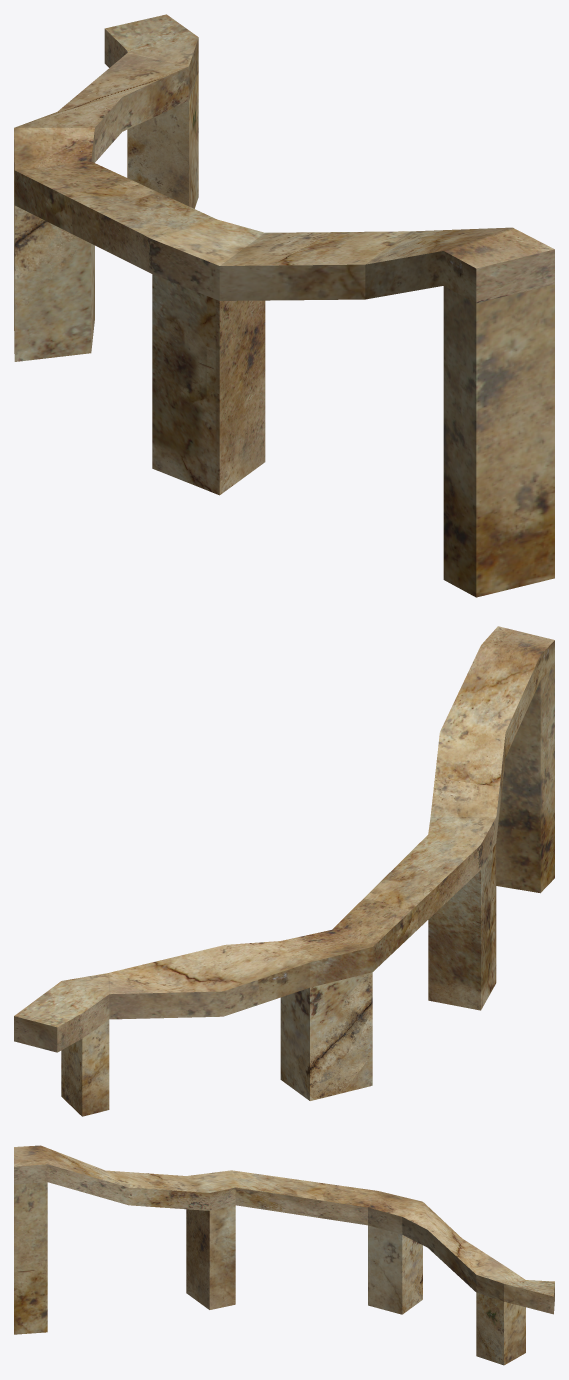
The model's file is slide_001.fbx.
3 renders of one model, top to bottom at view 1: azimuth 30°, elevation 25°; view 2: azimuth 150°, elevation 25°; view 3: azimuth 270°, elevation 25°, orthographic. The views are drawn at different scales.
Parts seen in each view (by area): view 1: pPlane10; view 2: pPlane10; view 3: pPlane10.
Part boxes in pixels (x1,y1,x2,y2): pPlane10: (14,14,554,597); pPlane10: (14,626,554,1116); pPlane10: (14,1145,554,1365).
Bounding box in the file's own units: 3.11 × 2.96 × 8.64.
1 material, 1 textured.
